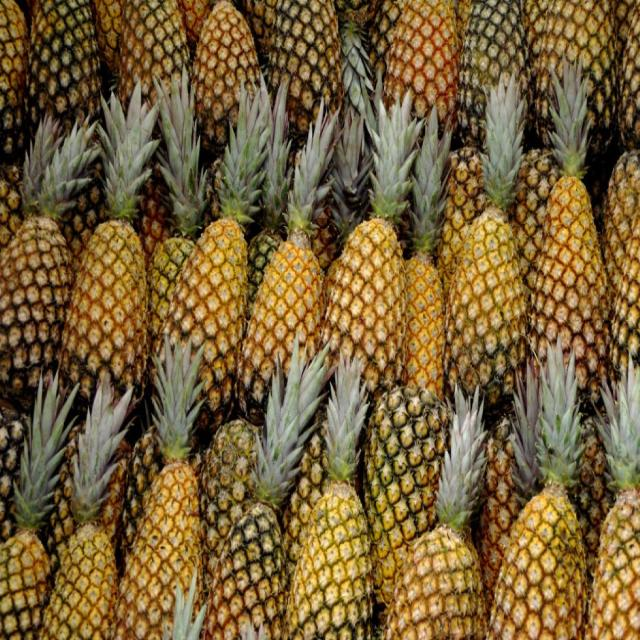pineapple: (153, 216, 249, 425), (64, 180, 152, 407), (526, 172, 610, 394), (236, 223, 329, 422), (442, 206, 528, 406), (317, 215, 407, 398), (489, 472, 579, 640), (0, 208, 72, 399), (196, 496, 289, 638), (191, 2, 262, 148), (117, 1, 190, 121)
